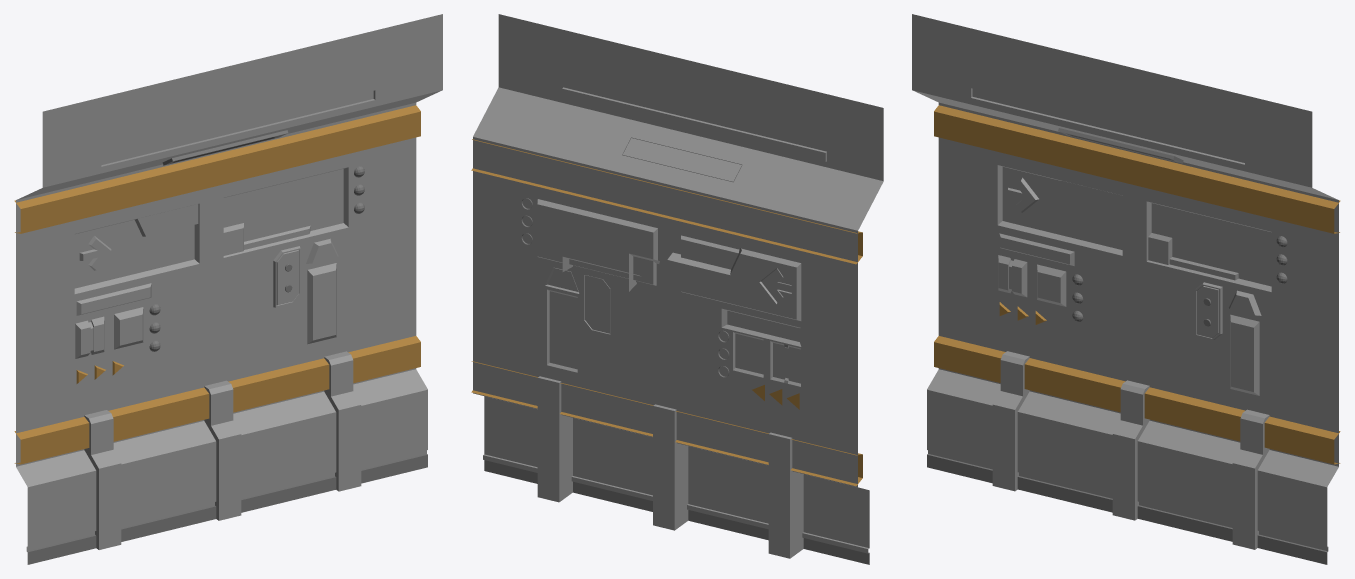
Rendered from Wall_4.fbx.
3 views of the same model, side by side, from view 1: azimuth 30°, elevation 25°; view 2: azimuth 150°, elevation 25°; view 3: azimuth 330°, elevation 25° (orthographic). The views are drawn at different scales.
Visible parts, largest first — view 1: Wall_4; view 2: Wall_4; view 3: Wall_4.
Boxes of the visible parts, left/top/right/bottom form: Wall_4: left=14, top=14, right=442, bottom=564; Wall_4: left=471, top=14, right=883, bottom=564; Wall_4: left=912, top=14, right=1340, bottom=564.
Bounding box in the file's own units: 400 × 443 × 57.26.
